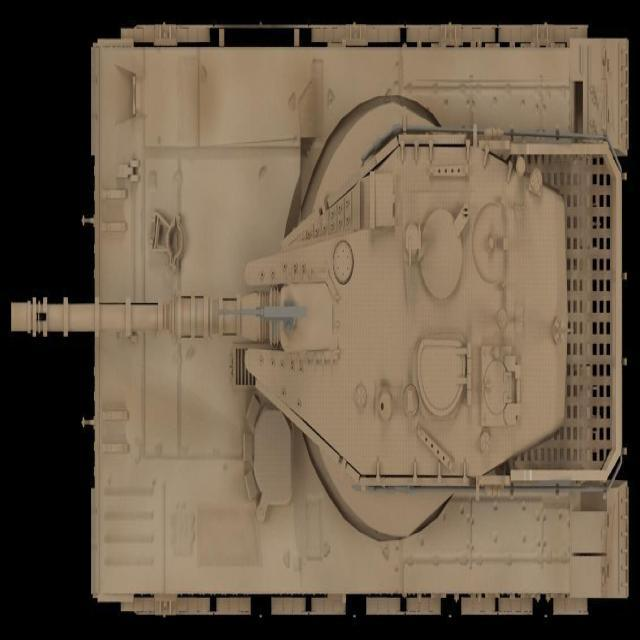MIL_MBT: (11, 18, 628, 610)
